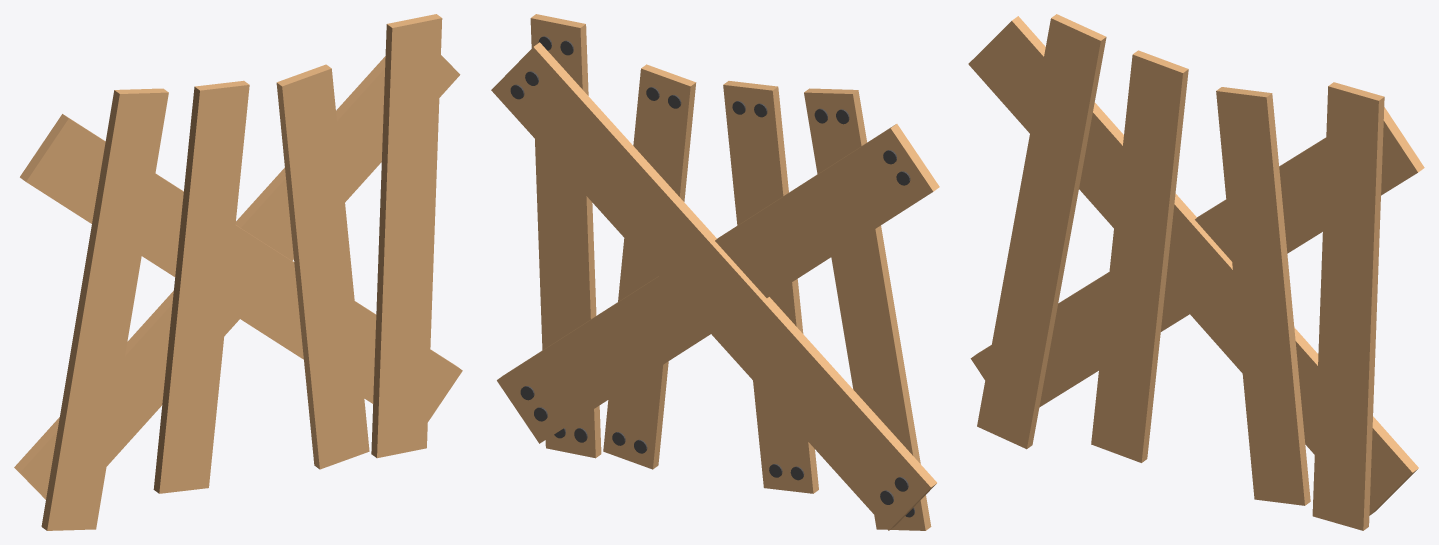
File: woodpieces.fbx
3 views of the same model, side by side, from view 1: azimuth 30°, elevation 25°; view 2: azimuth 150°, elevation 25°; view 3: azimuth 330°, elevation 25° (orthographic).
Parts seen in each view (by area): view 1: Wood4a, Wood1a, Wood4, Wood1, Wood3a, Wood2a, Wood3, Wood2, Wood6a, Wood6, Wood5a, Wood5; view 2: Wood5, Wood5a, Wood6a, Wood6, Wood4a, Wood4, Wood3a, Wood1, Wood1a, Wood2a, Wood2, Wood3; view 3: Wood1a, Wood4a, Wood1, Wood4, Wood2a, Wood3a, Wood2, Wood3, Wood6a, Wood6, Wood5a, Wood5.
Boxes of the visible parts, x1,y1,x2,y2 form: Wood4a: (78,88,168,312); Wood1a: (379,14,442,242); Wood4: (41,309,132,530); Wood1: (371,233,434,458); Wood3a: (174,80,249,292); Wood2a: (276,64,350,277); Wood3: (153,286,229,493); Wood2: (295,260,369,469); Wood6a: (20,114,265,299); Wood6: (227,243,462,421); Wood5a: (235,55,460,260); Wood5: (14,290,239,499); Wood5: (690,264,936,530); Wood5a: (491,42,735,309); Wood6a: (715,124,939,297); Wood6: (497,276,710,443); Wood4a: (804,88,894,312); Wood4: (840,308,931,530); Wood3a: (723,81,798,292); Wood1: (538,233,601,458); Wood1a: (530,14,593,242); Wood2a: (622,64,696,271); Wood2: (603,260,668,469); Wood3: (753,288,818,493); Wood1a: (1320,82,1384,315); Wood4a: (1014,14,1106,244); Wood1: (1312,301,1376,530); Wood4: (977,222,1069,449); Wood2a: (1216,87,1291,301); Wood3a: (1112,50,1188,267); Wood2: (1235,295,1310,505); Wood3: (1091,249,1167,462); Wood6a: (968,16,1215,289); Wood6: (1169,244,1418,515); Wood5a: (1195,107,1424,261); Wood5: (970,272,1189,407).
Bounding box in the file's own units: 220 × 205 × 15.19.
